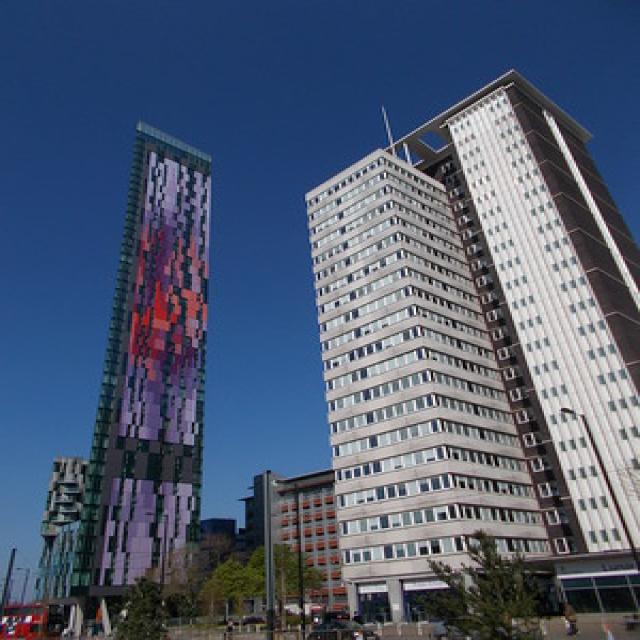building: (294, 64, 640, 640), (42, 114, 204, 611)
